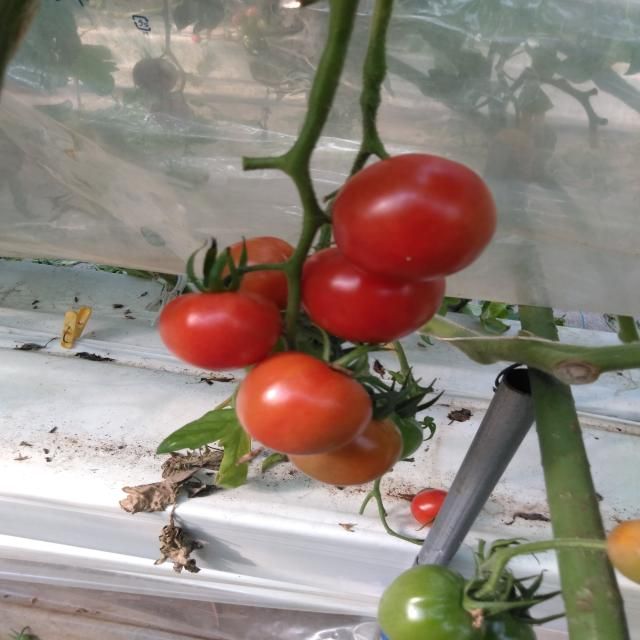c-half-riped: (235, 351, 374, 456), (285, 409, 404, 487), (214, 237, 306, 311), (605, 518, 640, 586)
c-riped: (331, 152, 498, 281), (297, 248, 446, 344), (157, 289, 284, 371), (410, 489, 449, 527)
c-unriped: (377, 564, 484, 640), (464, 579, 537, 639), (372, 399, 424, 463)
